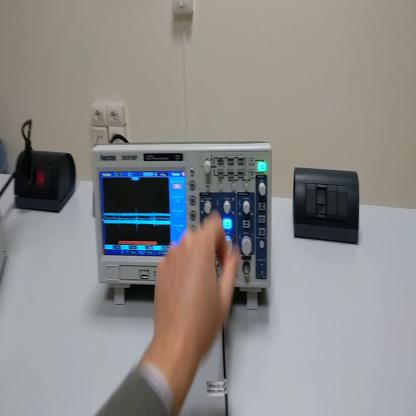hand: (151, 211, 237, 362)
oscilloscope: (90, 134, 275, 308)
power supply: (1, 200, 12, 280)
socket: (12, 154, 78, 214)
